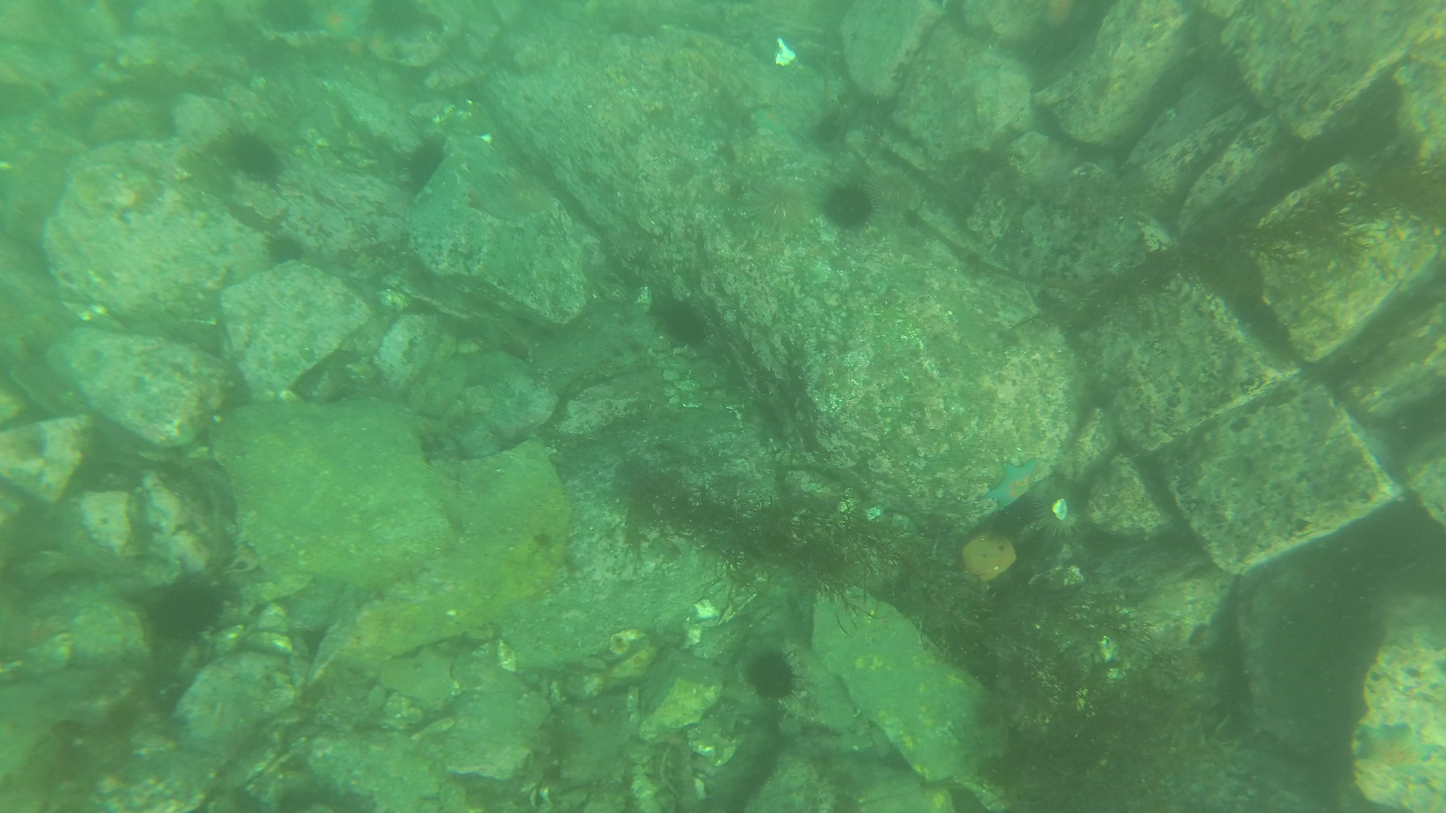holothurian: (1359, 718, 1440, 788), (981, 455, 1036, 513), (315, 0, 365, 38), (750, 102, 790, 136)
starfish: (149, 579, 227, 645), (754, 174, 812, 232), (746, 651, 805, 706), (821, 181, 875, 227), (872, 162, 917, 212), (231, 132, 280, 177), (665, 301, 707, 344), (266, 228, 305, 269)
